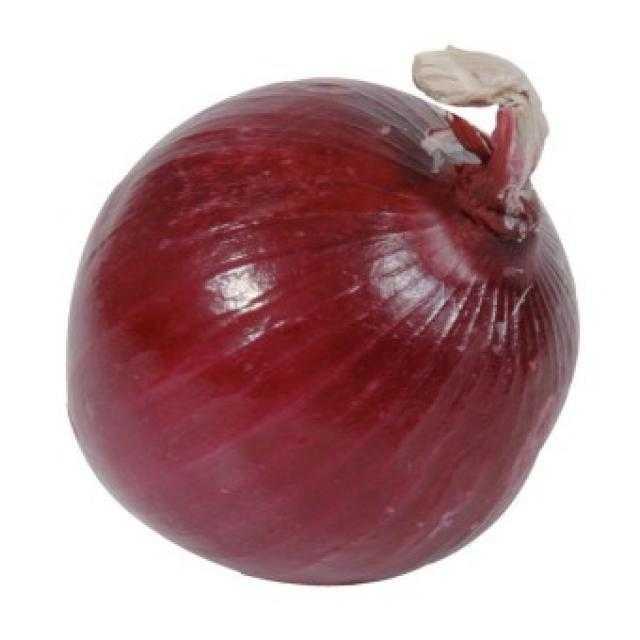Onion: (69, 49, 581, 589)
